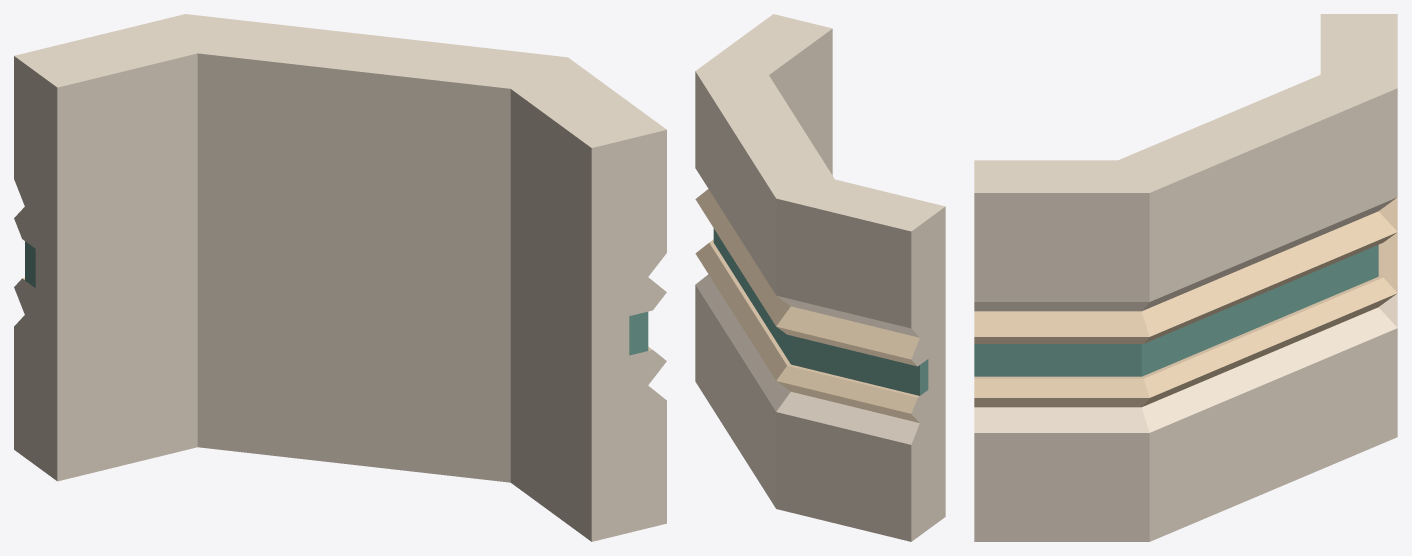
The model's file is Puzzle_Wall_Conduit_Path_Curved_Small_Outer.glb.
The picture shows the model from 3 angles, left to right: view 1: azimuth 30°, elevation 25°; view 2: azimuth 150°, elevation 25°; view 3: azimuth 270°, elevation 25°; orthographic projection. The views are drawn at different scales.
Visible parts, largest first — view 1: Puzzle_Wall_Conduit_Path_Curved_Small_Outer; view 2: Puzzle_Wall_Conduit_Path_Curved_Small_Outer; view 3: Puzzle_Wall_Conduit_Path_Curved_Small_Outer.
Boxes of the visible parts, x1,y1,x2,y2 form: Puzzle_Wall_Conduit_Path_Curved_Small_Outer: (14, 14, 666, 541); Puzzle_Wall_Conduit_Path_Curved_Small_Outer: (695, 14, 945, 541); Puzzle_Wall_Conduit_Path_Curved_Small_Outer: (974, 14, 1397, 541).
Bounding box in the file's own units: 1.1 × 1 × 1.1.
